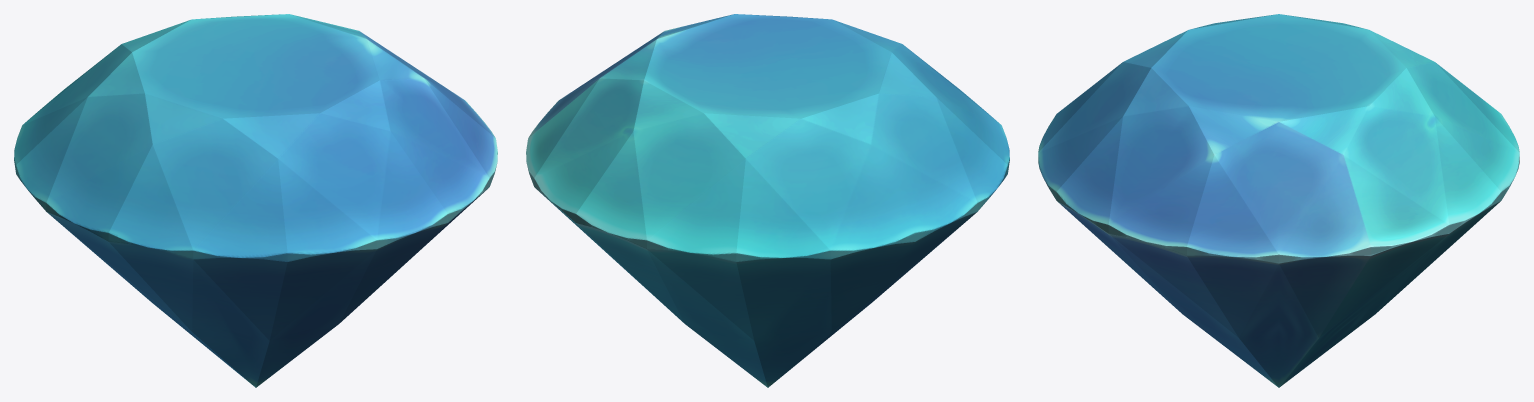
File: MudgenDiamond_.fbx
3 views of the same model, side by side, from view 1: azimuth 30°, elevation 25°; view 2: azimuth 150°, elevation 25°; view 3: azimuth 270°, elevation 25° (orthographic).
Visible parts, largest first — view 1: MudgenDiamond; view 2: MudgenDiamond; view 3: MudgenDiamond.
Boxes of the visible parts, left/top/right/bottom form: MudgenDiamond: left=14, top=14, right=497, bottom=387; MudgenDiamond: left=526, top=14, right=1009, bottom=387; MudgenDiamond: left=1038, top=14, right=1519, bottom=387.
Size of the model in its own units: 5.13 by 3.76 by 5.13.
